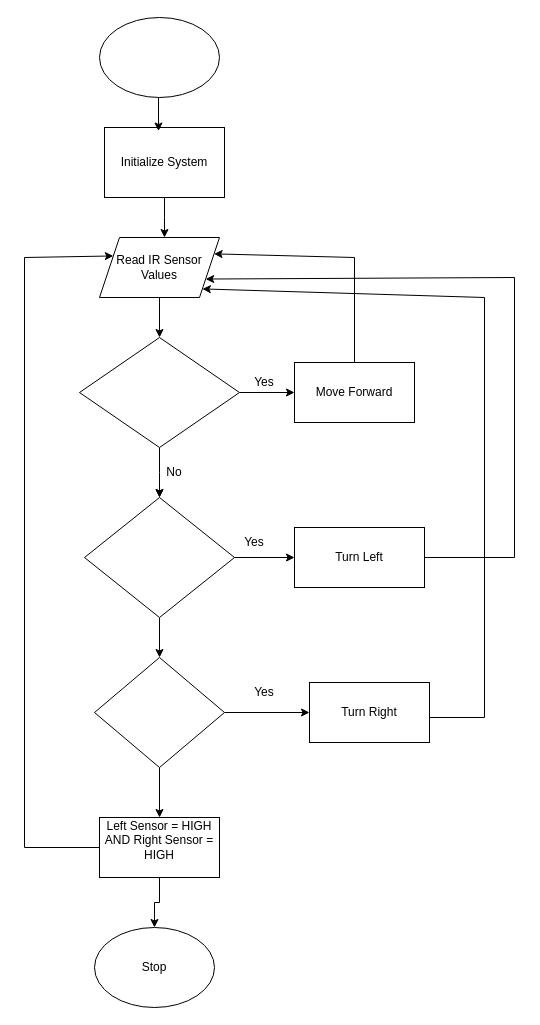
Image size: 540x1025. Some labels were removed from this diagram. The centre of each missing label's shape, as x and y in pixels:
"Left Sensor = HIGH AND Right Sensor = LOW" belongs at [159,712].
"Left Sensor = LOW AND Right Sensor = LOW" belongs at [159,392].
"Right Sensor = HIGH AND Left Sensor = LOW" belongs at [159,557].
"Start" belongs at [159,57].
